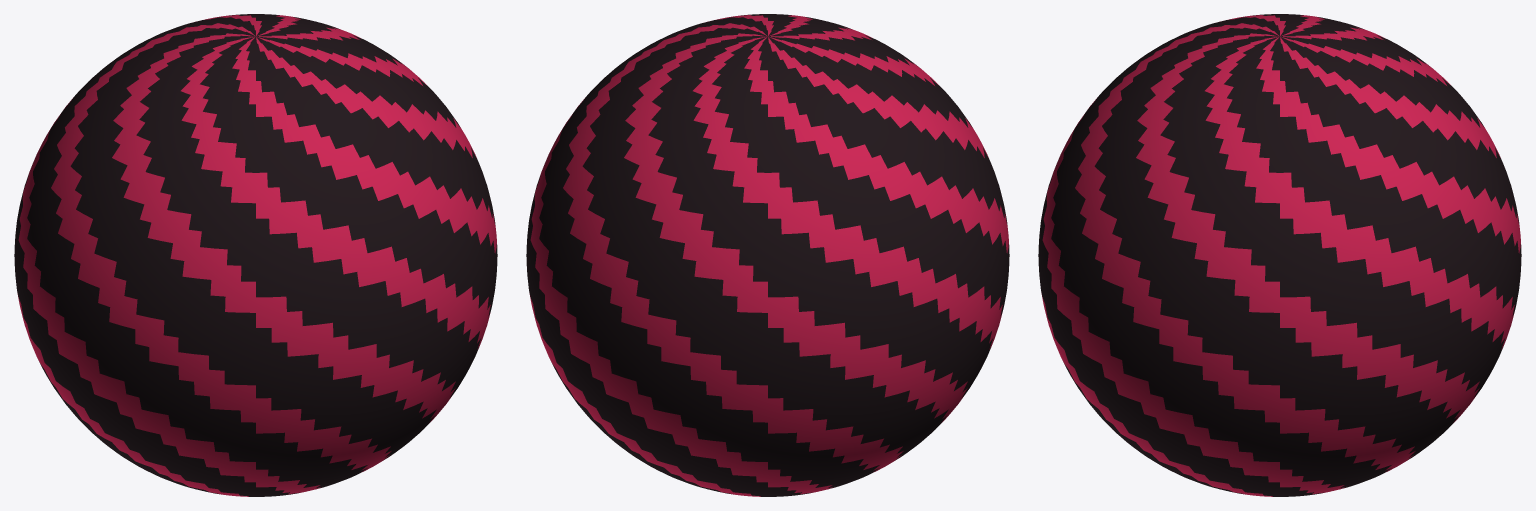
Rendered from rival.glb.
3 views of the same model, side by side, from view 1: azimuth 30°, elevation 25°; view 2: azimuth 150°, elevation 25°; view 3: azimuth 270°, elevation 25° (orthographic).
Parts seen in each view (by area): view 1: rival; view 2: rival; view 3: rival.
Part boxes in pixels (x1=…): rival: x1=14, y1=14, x2=497, y2=496; rival: x1=526, y1=14, x2=1009, y2=496; rival: x1=1038, y1=14, x2=1521, y2=496.
Size of the model in its own units: 1 by 1 by 1.
